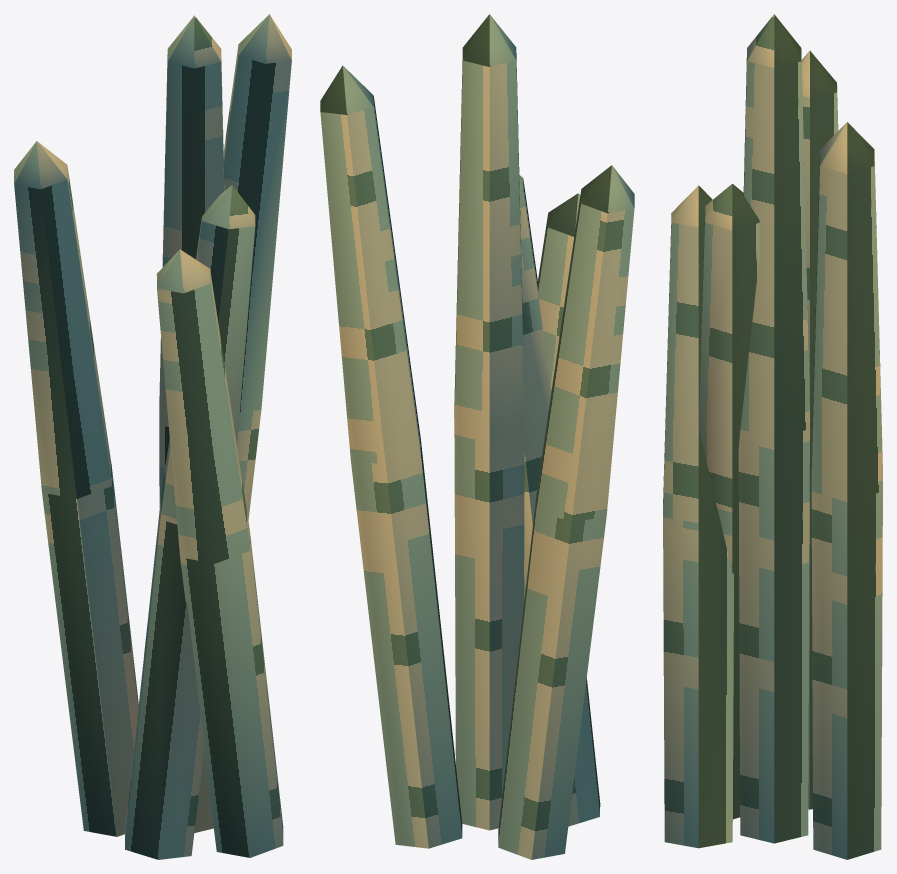
Rendered from wprop.cactus__organ.glb.
3 renders of one model, left to right at view 1: azimuth 30°, elevation 25°; view 2: azimuth 150°, elevation 25°; view 3: azimuth 270°, elevation 25°, orthographic.
Visible parts, largest first — view 1: kit_stems; view 2: kit_stems; view 3: kit_stems.
Part boxes in pixels (x1=…): kit_stems: x1=14, y1=14, x2=291, y2=859; kit_stems: x1=320, y1=14, x2=634, y2=859; kit_stems: x1=663, y1=14, x2=882, y2=859.
Size of the model in its own units: 0.9714 by 2.53 by 0.6162.
Materials: 1 (1 with a texture image).
